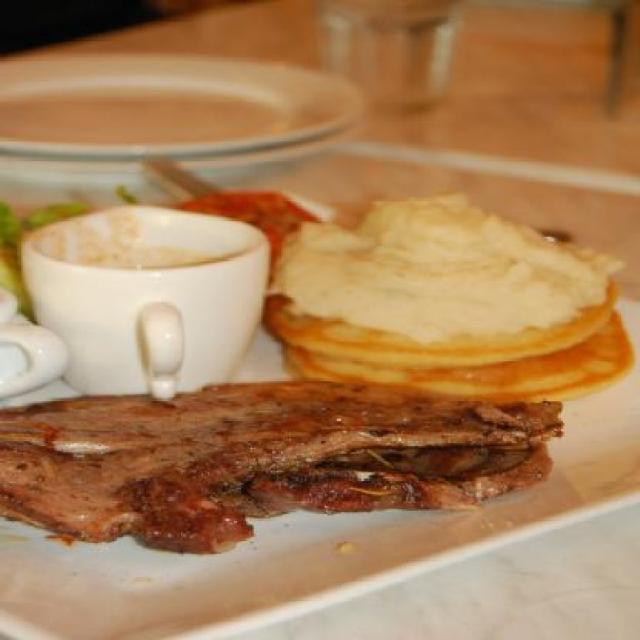Pancake: (264, 205, 612, 398)
